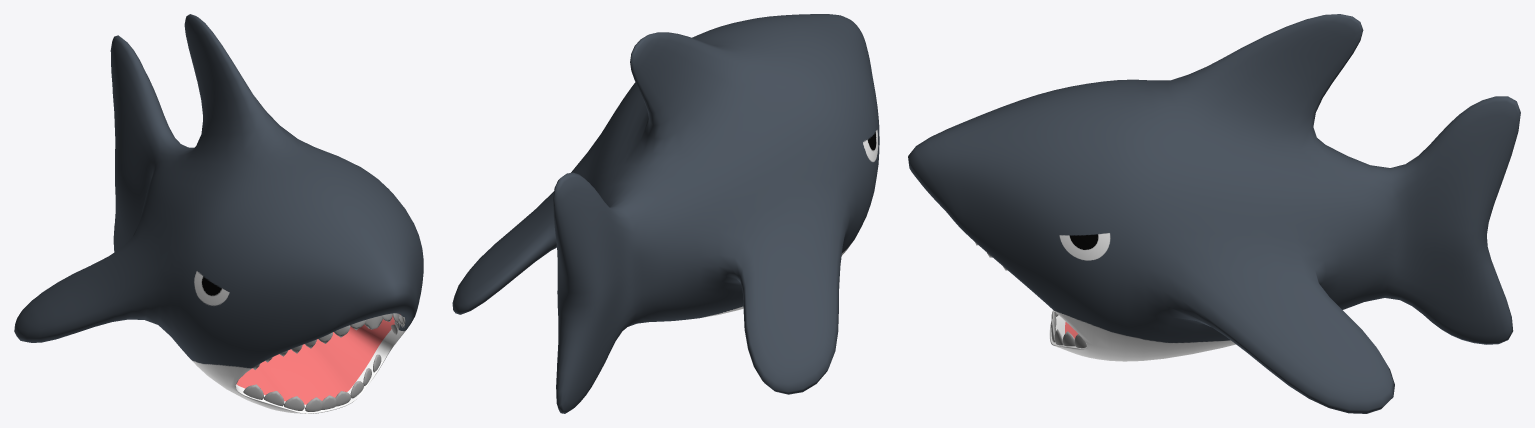
File: same 1.fbx
3 renders of one model, left to right at view 1: azimuth 30°, elevation 25°; view 2: azimuth 150°, elevation 25°; view 3: azimuth 270°, elevation 25°, orthographic. The views are drawn at different scales.
Visible parts, largest first — view 1: pCone28; view 2: pCone28; view 3: pCone28.
Boxes of the visible parts, x1,y1,x2,y2 form: pCone28: [14, 14, 423, 413]; pCone28: [452, 14, 879, 413]; pCone28: [908, 14, 1520, 413].
Bounding box in the file's own units: 10.15 × 8.65 × 14.31.
2 materials, 1 textured.
